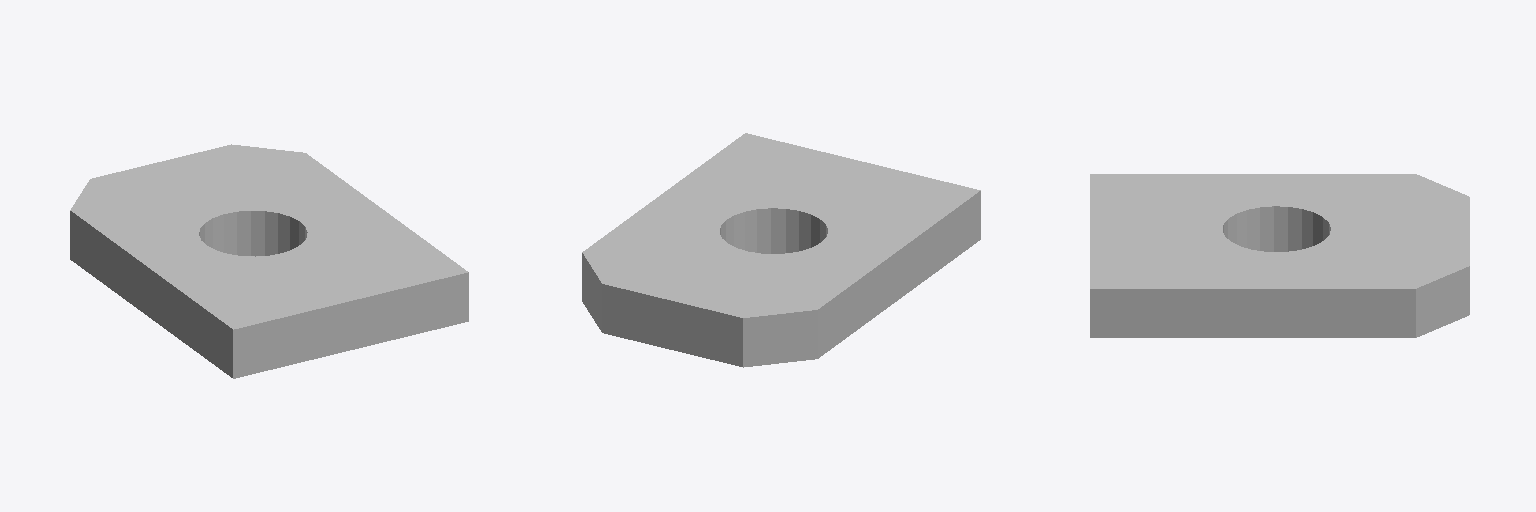
The model's file is original-1.obj.
3 renders of one model, left to right at view 1: azimuth 30°, elevation 25°; view 2: azimuth 150°, elevation 25°; view 3: azimuth 270°, elevation 25°, orthographic.
Parts seen in each view (by area): view 1: Group1/mesh1/mesh1-geometry#mesh1-geometry; view 2: Group1/mesh1/mesh1-geometry#mesh1-geometry; view 3: Group1/mesh1/mesh1-geometry#mesh1-geometry.
Boxes of the visible parts, x1=… form: Group1/mesh1/mesh1-geometry#mesh1-geometry: x1=70, y1=144, x2=468, y2=378; Group1/mesh1/mesh1-geometry#mesh1-geometry: x1=582, y1=133, x2=980, y2=367; Group1/mesh1/mesh1-geometry#mesh1-geometry: x1=1090, y1=174, x2=1469, y2=337.
Bounding box in the file's own units: 0.3417 × 0.0683 × 0.4783.